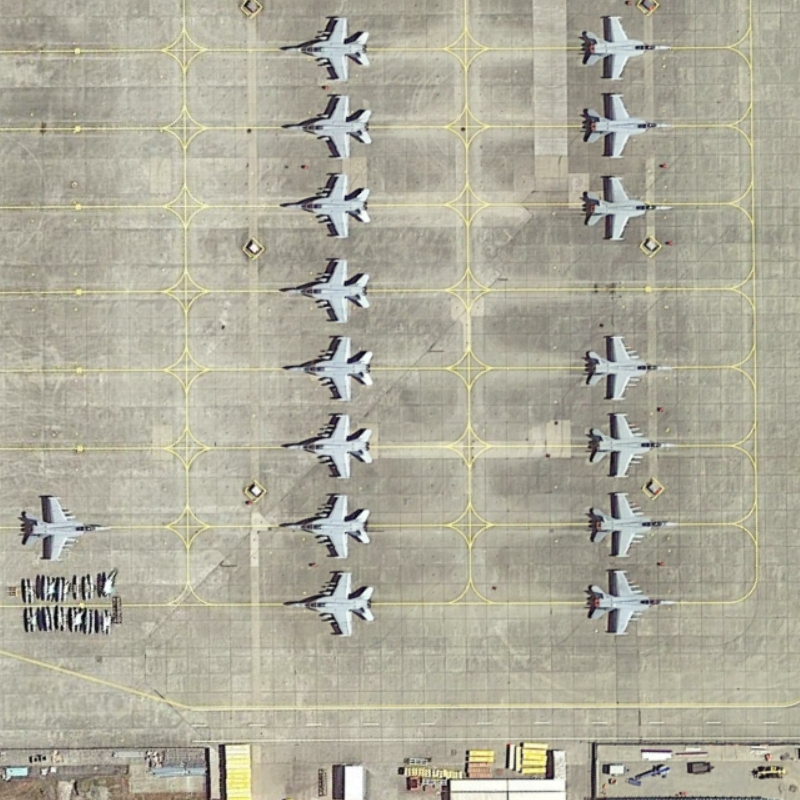A16: (269, 244, 381, 330), (573, 84, 676, 169), (13, 487, 115, 571), (273, 164, 377, 246), (270, 327, 379, 405), (576, 327, 680, 408), (576, 564, 680, 645), (271, 10, 379, 88), (275, 400, 376, 483), (277, 565, 385, 642), (576, 8, 682, 84), (582, 405, 679, 487), (276, 85, 377, 163), (583, 483, 678, 565), (576, 171, 676, 244)
